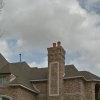Chimney: (43, 36, 69, 94)
